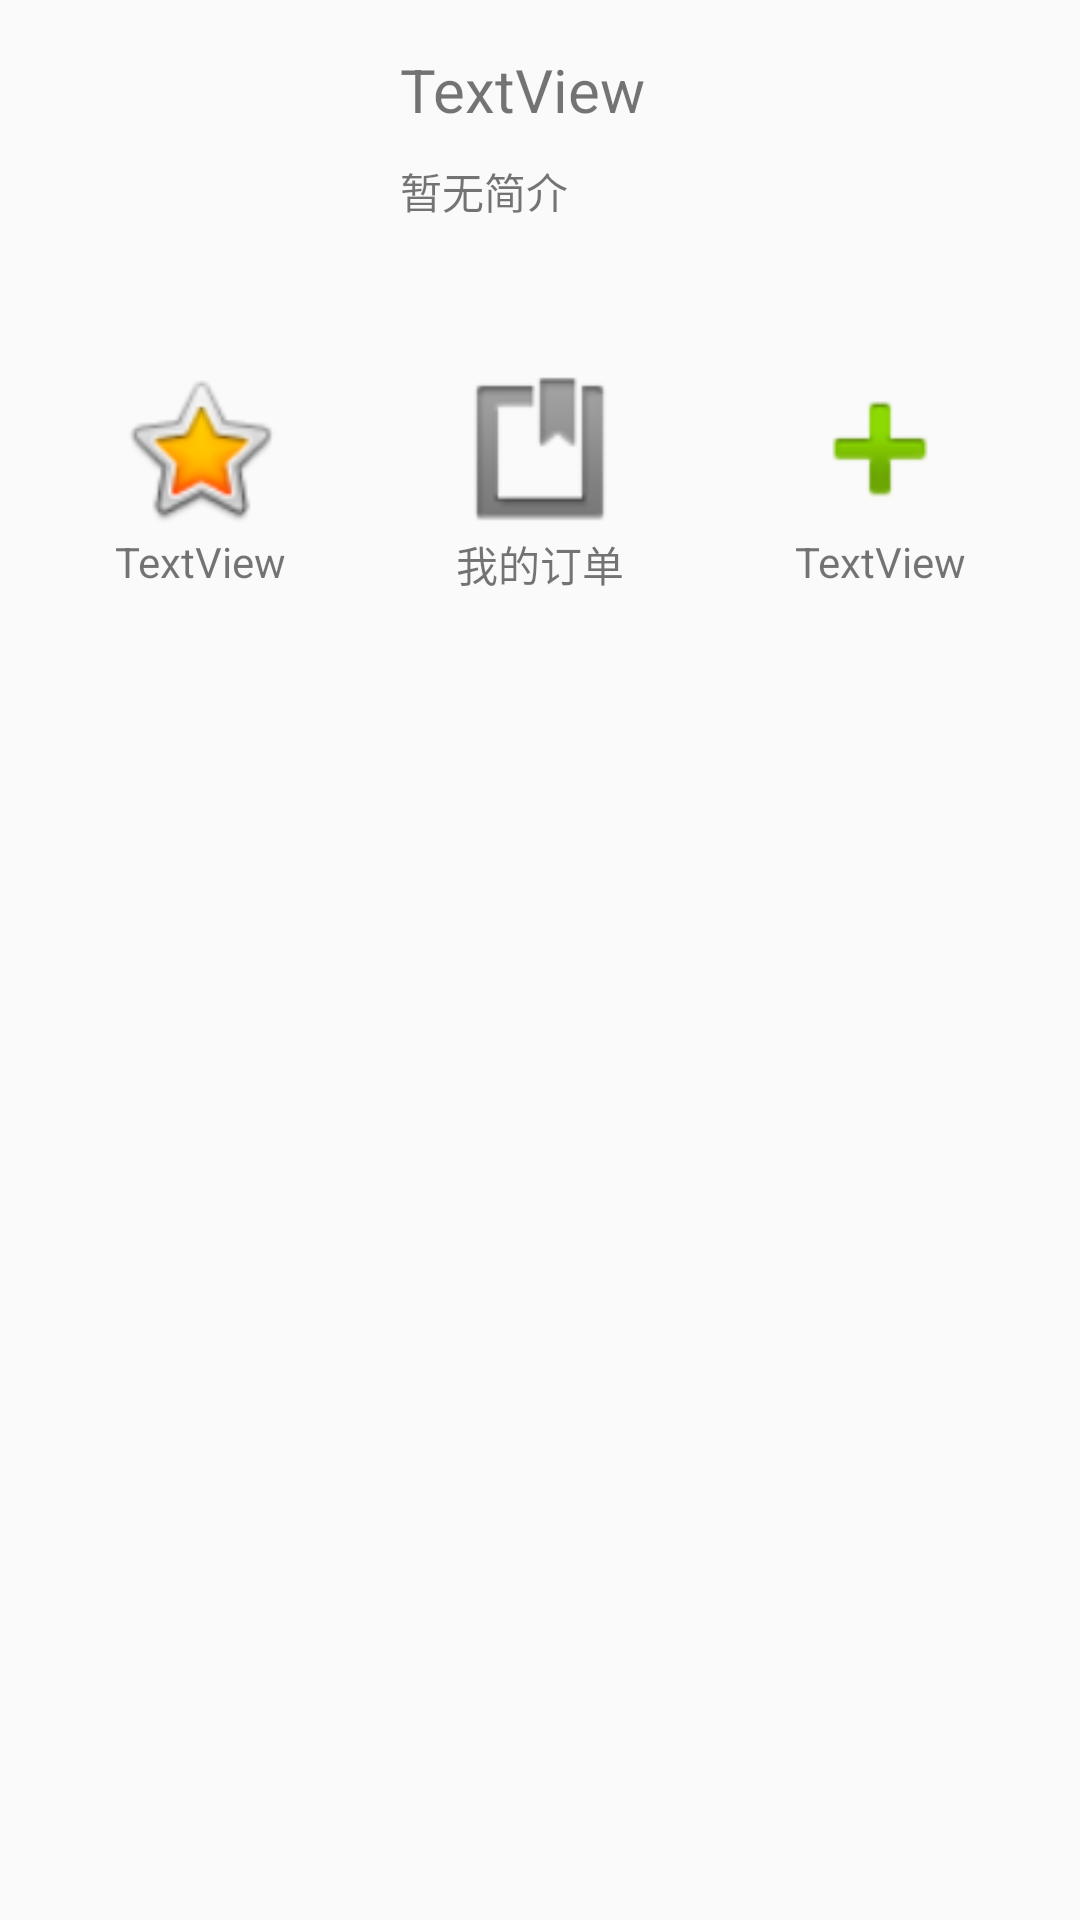

Named icons in this screenshot (1080 x 1920) and their bounding boxes, [x1,y1,x2,y2]:
add: [832,401,928,497]
star on: [131,382,272,519]
